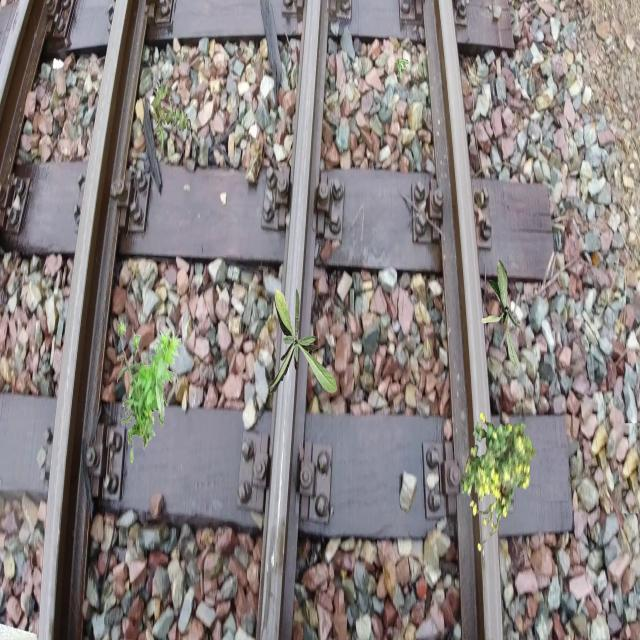Plant: (462, 412, 537, 552), (117, 320, 182, 463), (266, 288, 338, 396), (482, 260, 522, 370), (150, 80, 192, 152), (395, 59, 409, 80)
